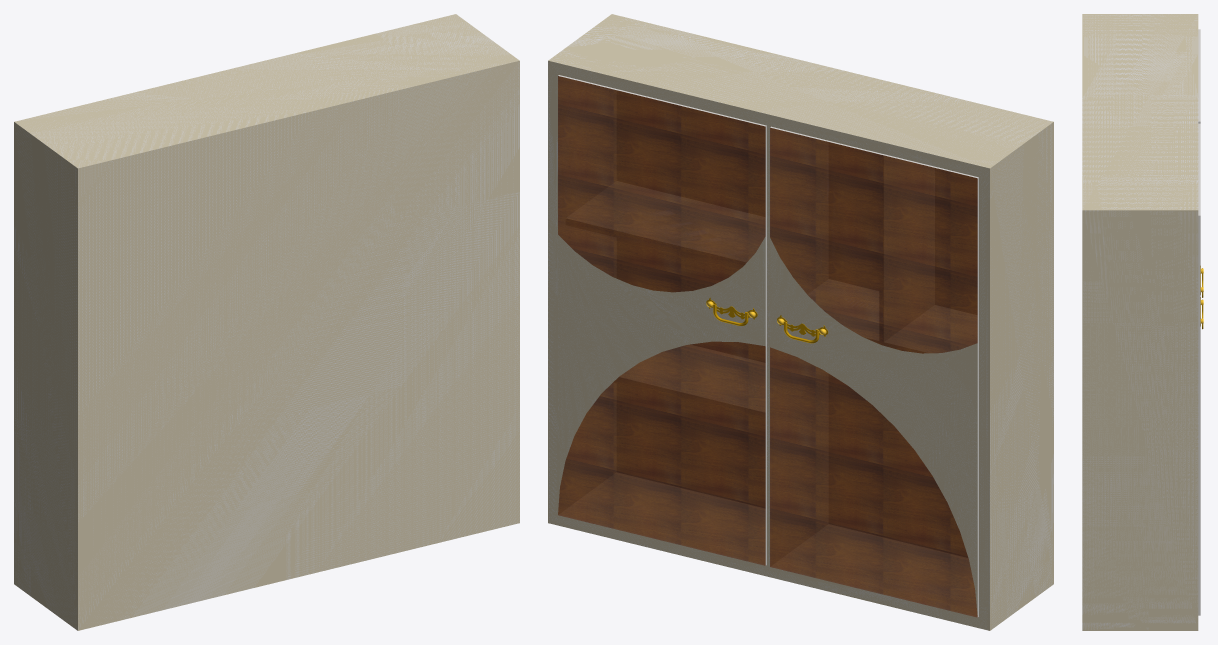
The picture shows the model from 3 angles, left to right: view 1: azimuth 30°, elevation 25°; view 2: azimuth 150°, elevation 25°; view 3: azimuth 270°, elevation 25°; orthographic projection. The views are drawn at different scales.
Visible parts, largest first — view 1: mesh28_mesh28-geometry; view 2: mesh28_mesh28-geometry; view 3: mesh28_mesh28-geometry.
Boxes of the visible parts, box(x1,y1,x2,y2) form: mesh28_mesh28-geometry: box(14, 14, 519, 630); mesh28_mesh28-geometry: box(548, 14, 1053, 630); mesh28_mesh28-geometry: box(1082, 14, 1200, 630).
Bounding box in the file's own units: 0.6953 × 0.6953 × 0.1819.
